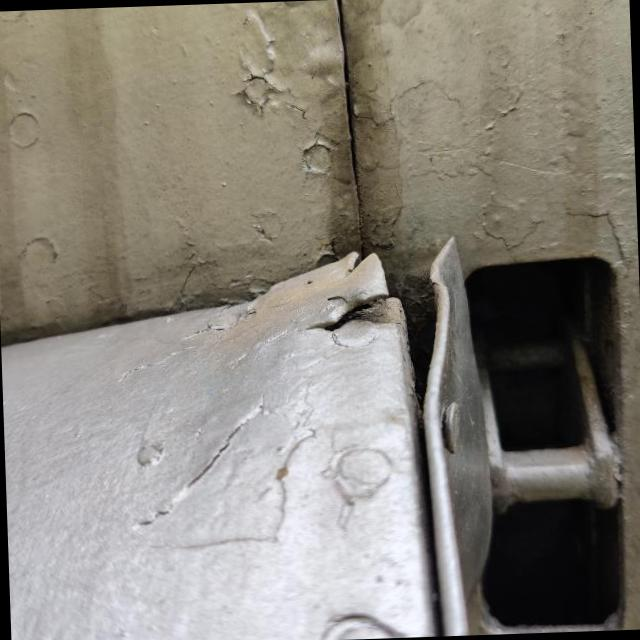Crack: (317, 292, 399, 341)
